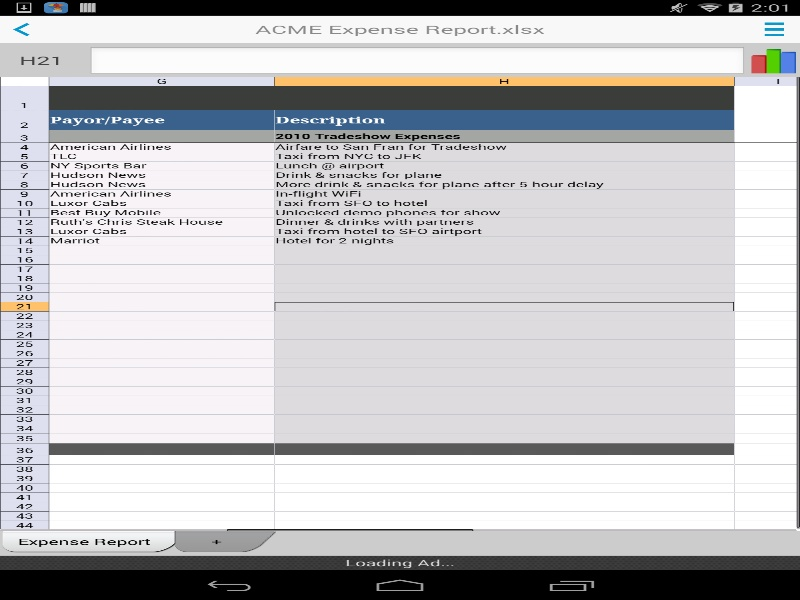Button: (2, 530, 175, 552), (175, 531, 276, 552), (0, 15, 58, 43), (748, 15, 800, 43)
Input: (0, 76, 800, 530), (88, 46, 746, 76)
